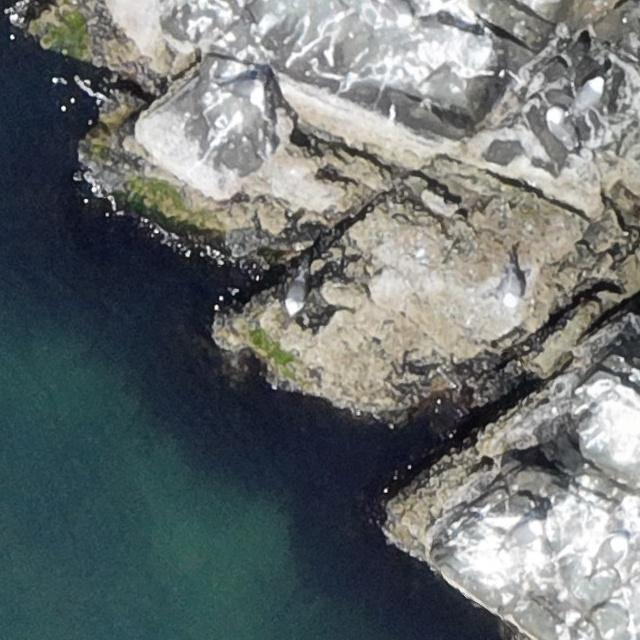umineko: (588, 537, 626, 583), (546, 104, 578, 155), (499, 520, 542, 552), (570, 78, 604, 116), (219, 77, 265, 104), (502, 263, 522, 308), (288, 280, 306, 312)
